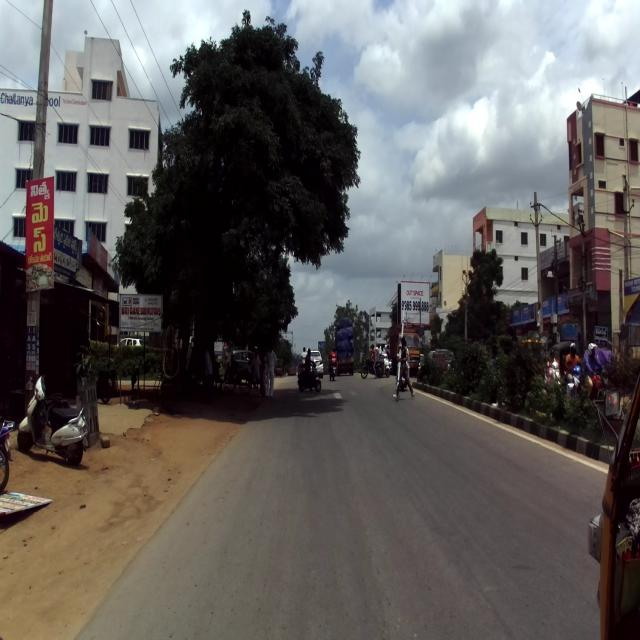autorickshaw: (586, 363, 640, 639)
motorcycle: (16, 369, 88, 466)
